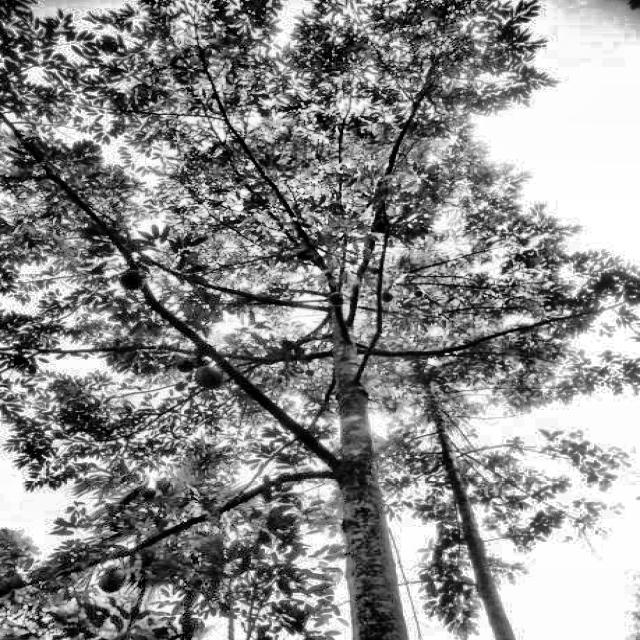arvore: (276, 241, 438, 640)
